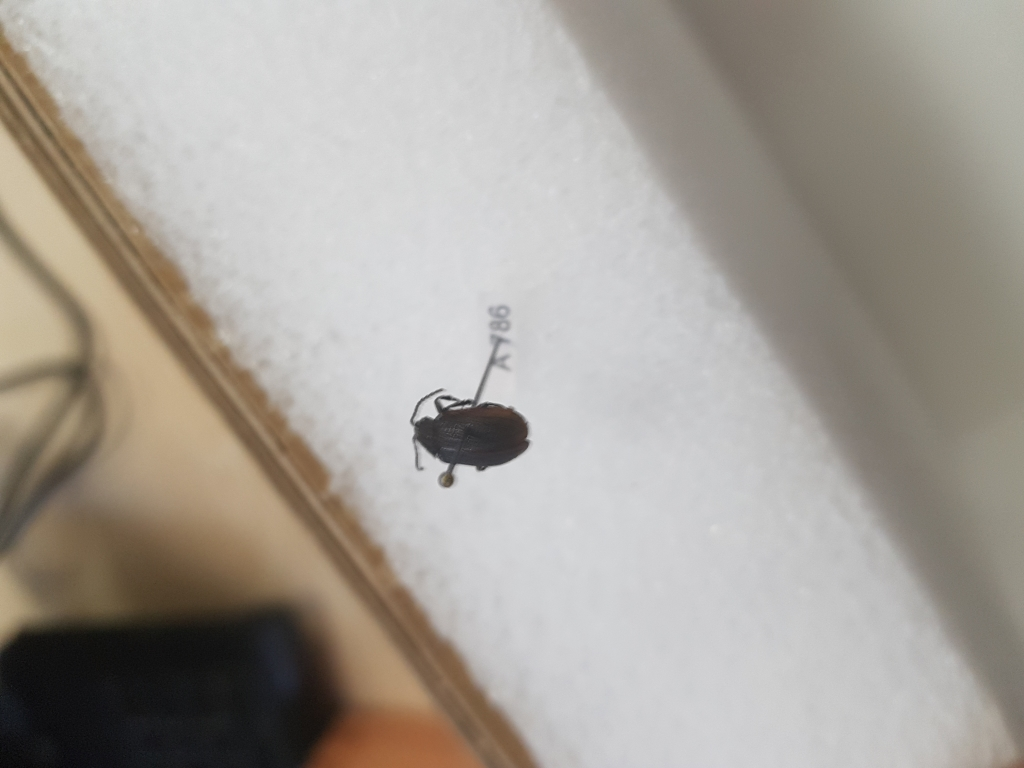Galeruca_tanaceti: (406, 380, 536, 479)
